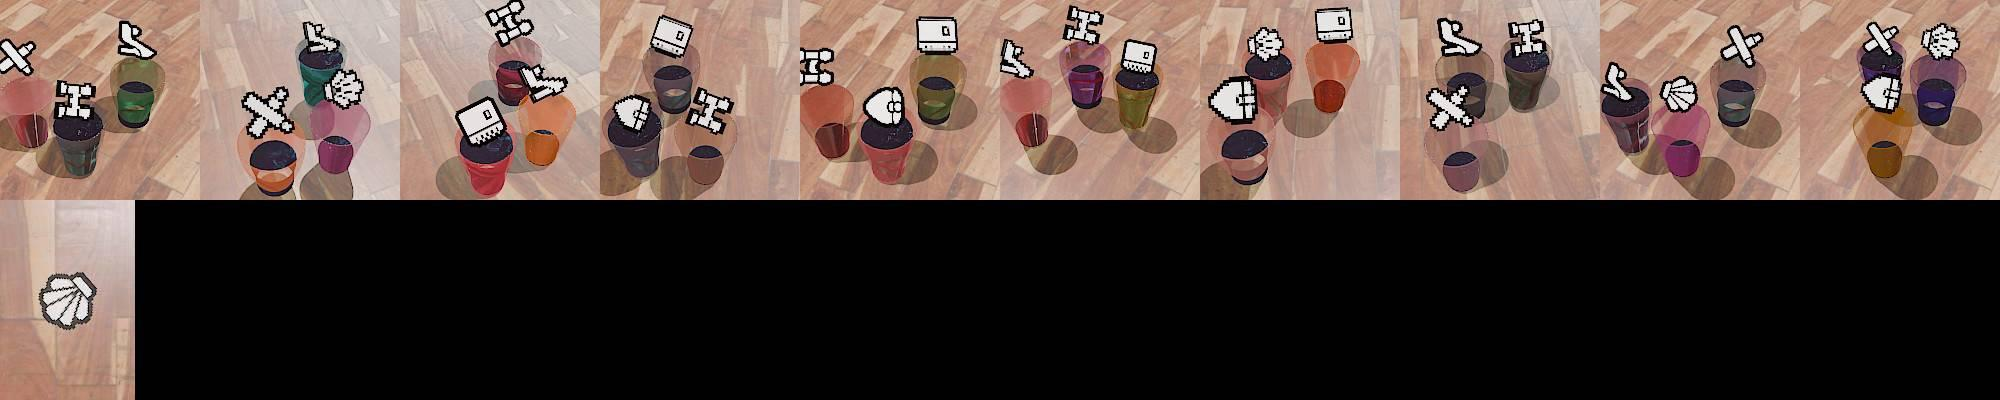icon: (38, 272, 98, 329), (454, 94, 510, 150), (240, 84, 296, 138), (685, 85, 734, 134), (1207, 76, 1257, 124), (485, 0, 534, 47), (517, 62, 571, 104), (1426, 85, 1475, 131), (649, 14, 694, 62), (53, 78, 98, 121), (1436, 17, 1483, 58), (862, 85, 906, 127), (1722, 25, 1764, 67), (325, 68, 366, 110), (1659, 72, 1700, 113), (917, 16, 959, 56), (798, 44, 836, 88), (117, 20, 157, 61), (1064, 4, 1104, 44), (1920, 22, 1961, 61), (1860, 74, 1902, 112), (1601, 61, 1635, 107), (1508, 19, 1547, 58), (612, 94, 653, 131), (999, 37, 1034, 80), (1247, 25, 1286, 63), (1119, 39, 1158, 77), (0, 38, 37, 77), (1315, 7, 1353, 43), (1865, 22, 1899, 58), (302, 21, 331, 50)
